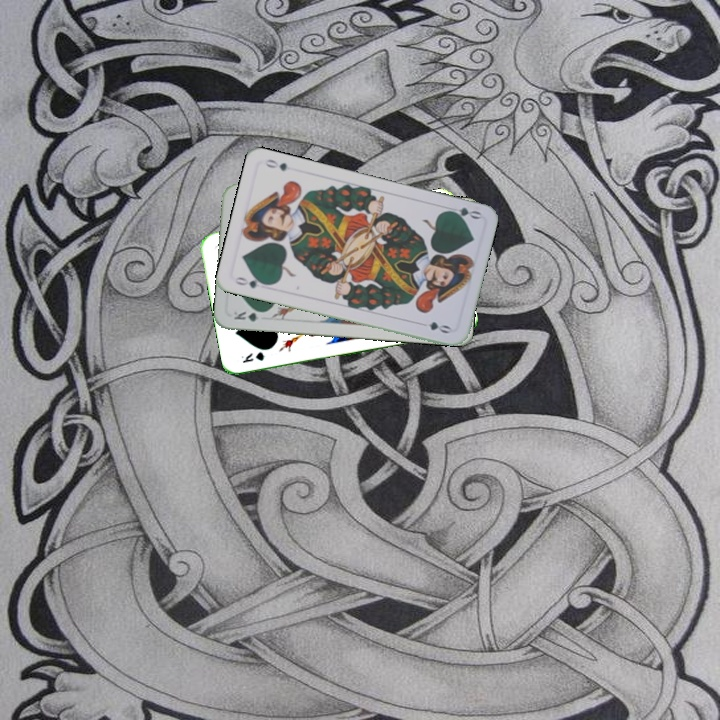GK: (230, 307, 269, 324), (237, 348, 269, 366)
GO: (442, 203, 483, 222), (231, 273, 271, 291)
